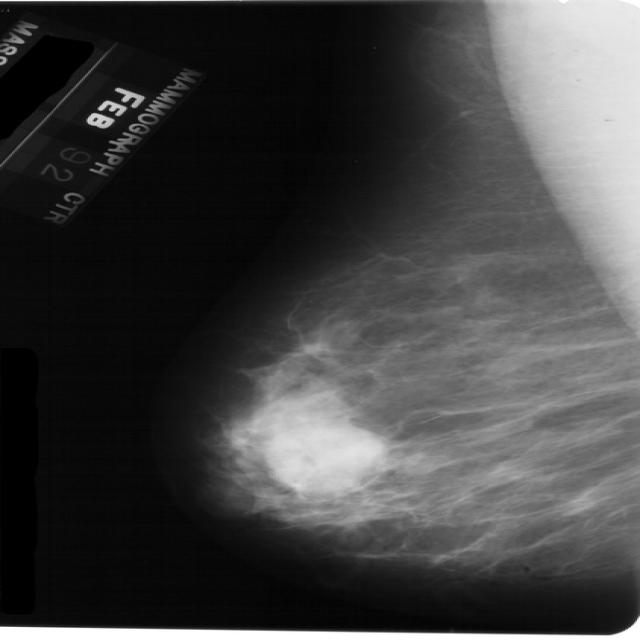tumour: (264, 425, 384, 487)
